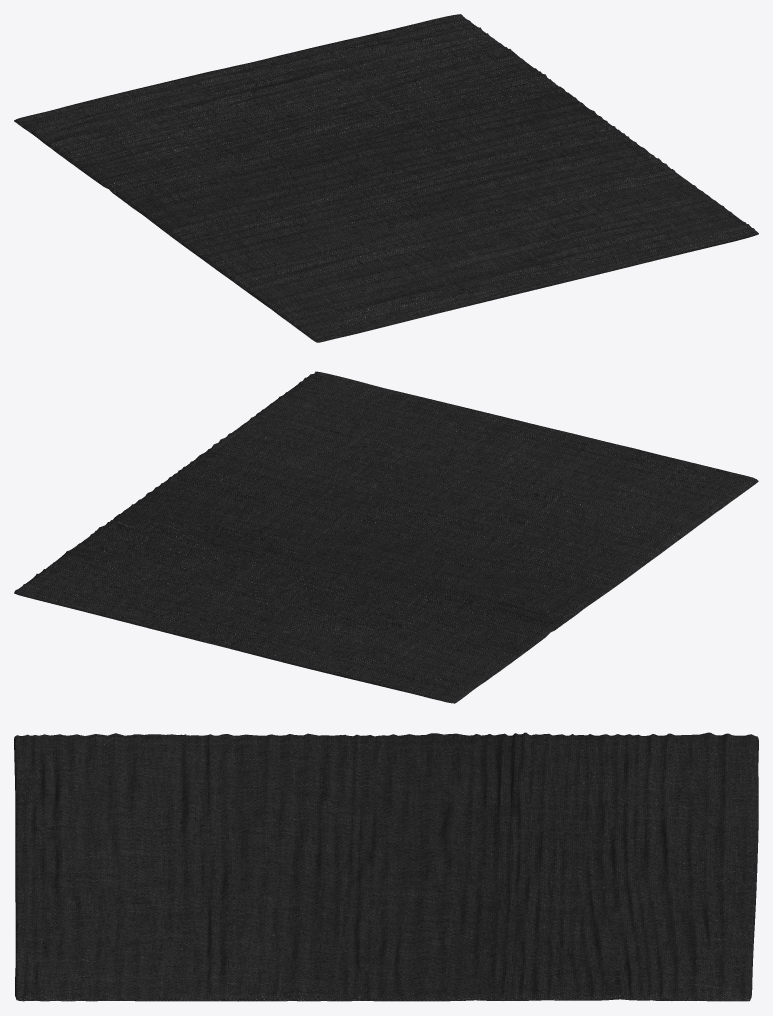
The model's file is tapate.fbx.
3 renders of one model, top to bottom at view 1: azimuth 30°, elevation 25°; view 2: azimuth 150°, elevation 25°; view 3: azimuth 270°, elevation 25°, orthographic. The views are drawn at different scales.
Visible parts, largest first — view 1: Tapete:roog2; view 2: Tapete:roog2; view 3: Tapete:roog2.
Part boxes in pixels (left/top/right/bottom): Tapete:roog2: left=14, top=14, right=758, bottom=342; Tapete:roog2: left=14, top=371, right=758, bottom=703; Tapete:roog2: left=14, top=732, right=758, bottom=1001.
Bounding box in the file's own units: 6.98 × 0.1227 × 8.28.
Materials: 1 (1 with a texture image).
